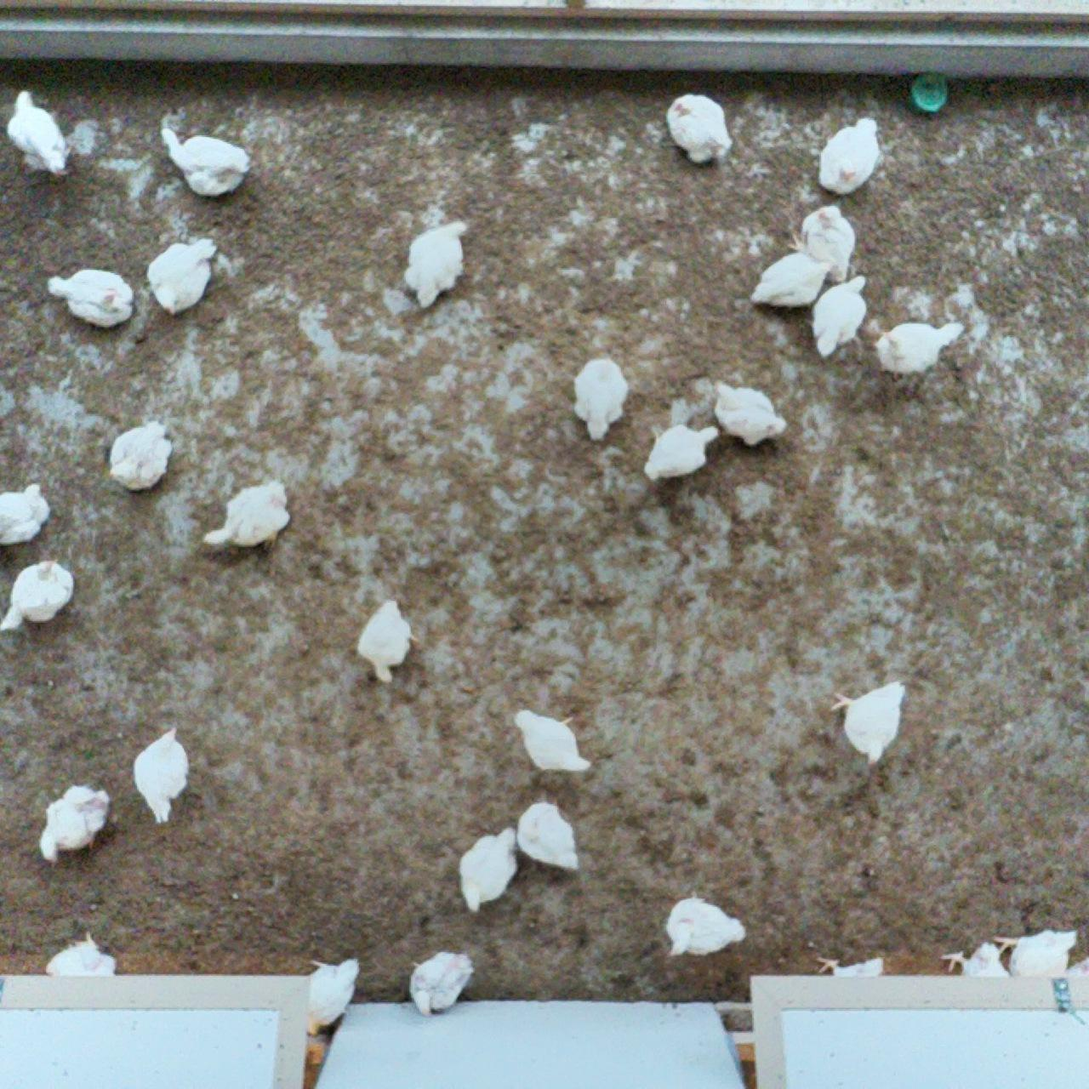chicken: (155, 121, 255, 203), (829, 675, 911, 770), (397, 212, 473, 313), (200, 476, 290, 555), (39, 777, 112, 869), (141, 234, 220, 318), (813, 110, 887, 199), (2, 87, 74, 177), (786, 199, 862, 284), (709, 373, 792, 450), (132, 723, 194, 825), (43, 264, 139, 329), (101, 413, 176, 496), (873, 317, 969, 381), (454, 825, 520, 917), (356, 596, 422, 687), (665, 888, 748, 960), (295, 952, 360, 1043), (0, 556, 75, 634), (511, 707, 596, 775), (569, 352, 631, 445), (511, 795, 583, 875), (664, 90, 737, 168), (809, 272, 872, 360), (408, 946, 482, 1017), (641, 421, 723, 485), (750, 255, 839, 312), (993, 925, 1085, 975), (0, 478, 57, 549), (42, 927, 119, 979), (941, 934, 1013, 983), (814, 951, 888, 983)
